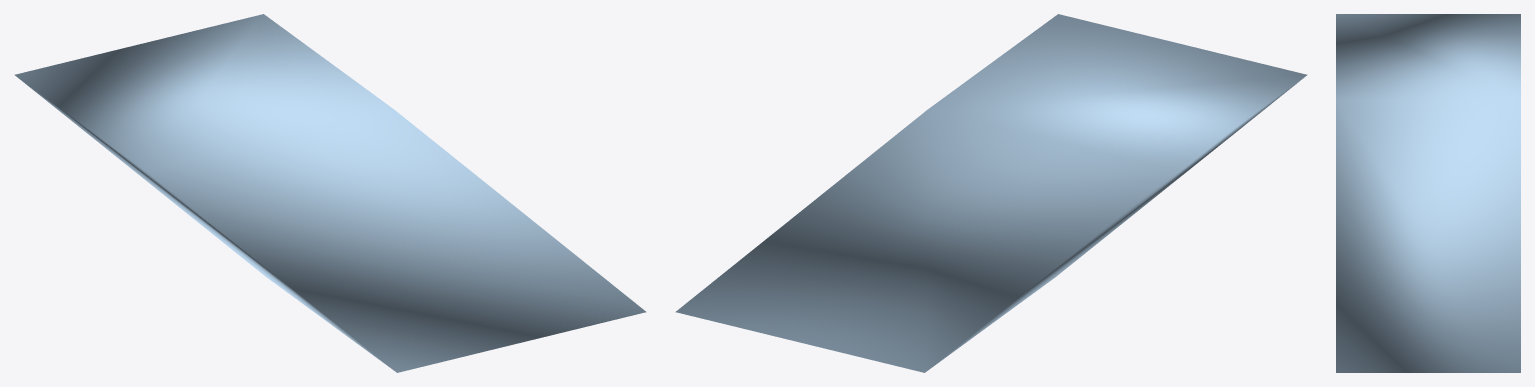
The model's file is amazonite.glb.
3 views of the same model, side by side, from view 1: azimuth 30°, elevation 25°; view 2: azimuth 150°, elevation 25°; view 3: azimuth 270°, elevation 25° (orthographic). The views are drawn at different scales.
Parts seen in each view (by area): view 1: amazonite; view 2: amazonite; view 3: amazonite.
Part boxes in pixels (x1,y1,x2,y2): amazonite: (14, 14, 646, 372); amazonite: (675, 14, 1307, 372); amazonite: (1336, 14, 1520, 372).
Size of the model in its own units: 3.98 by 2 by 1.8.
